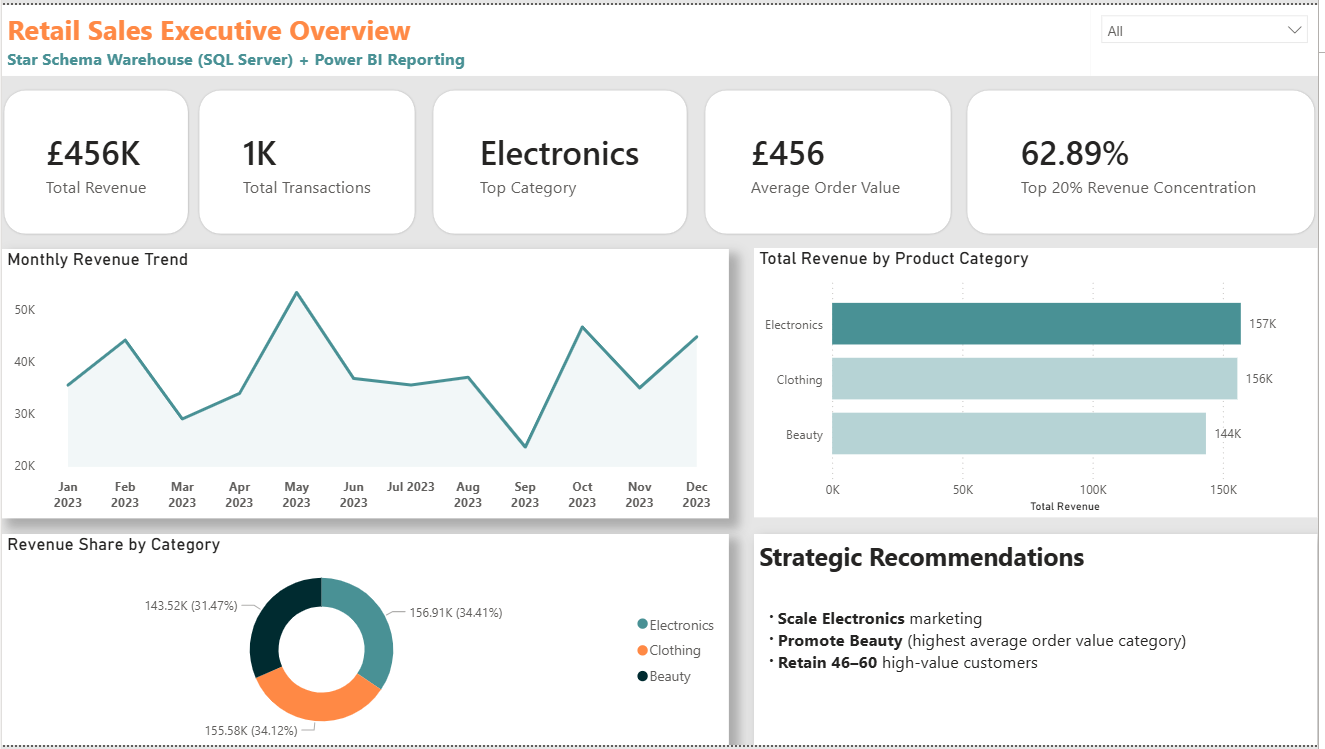

This screenshot's page, from the dashboard's own definition file:
{"tool":"powerbi","page":{"name":"Executive Overview","canvas":[1280,720],"ordinal":0},"visuals":[{"type":"lineChart","title":"Monthly Revenue Trend","fields":{"Y":["Sum(fact_sales.total_amount)"],"Category":["DateTable.MonthYear"]},"box":[0,237,707,262],"z":0},{"type":"clusteredBarChart","title":"Total Revenue by Product Category","fields":{"Y":["Sum(fact_sales.total_amount)"],"Category":["dim_products.product_category"]},"box":[731.4,236.5,548.3,262.3],"z":1000},{"type":"slicer","fields":{"Values":["dim_products.product_category"]},"box":[1059,0,220.7,69.3],"z":2000},{"type":"textbox","box":[731.4,514.6,548.3,205.9],"z":3000},{"type":"textbox","box":[0,0,1059,69],"z":4000},{"type":"donutChart","title":"Revenue Share by Category","fields":{"Y":["Sum(fact_sales.total_amount)"],"Category":["dim_products.product_category"]},"box":[0,514.6,706.6,205.9],"z":5000},{"type":"group","id":"g1","title":"Group 1","box":[0,81,183,144],"z":6000},{"type":"group","id":"g2","title":"Group 1","box":[190,81,214,144],"z":7000},{"type":"shape","box":[0,81,183,144],"z":7500,"group":"g1"},{"type":"shape","box":[190,81,214,144],"z":7500,"group":"g2"},{"type":"shape","box":[417,81,251,144],"z":7500,"group":"g3"},{"type":"shape","box":[682,81,243.2,144],"z":7500,"group":"g5"},{"type":"shape","box":[937,81,342,144],"z":7500,"group":"g4"},{"type":"group","id":"g3","title":"Group 1","box":[417,81,251,144],"z":8000},{"type":"cardVisual","fields":{"Data":["_Measures.Total Revenue"]},"box":[13.4,92.4,157.1,121.1],"z":8000,"group":"g1"},{"type":"cardVisual","fields":{"Data":["_Measures.Total Transactions"]},"box":[205.7,92.4,183.7,121.1],"z":8000,"group":"g2"},{"type":"cardVisual","fields":{"Data":["_Measures.Top Category"]},"box":[435.4,92.4,215.5,121.1],"z":8000,"group":"g3"},{"type":"cardVisual","fields":{"Data":["_Measures.Average Order Value"]},"box":[699.8,92.4,208.8,121.1],"z":8000,"group":"g5"},{"type":"cardVisual","fields":{"Data":["_Measures.Top 20% Revenue Concentration %"]},"box":[962,92.4,293.6,121.1],"z":8000,"group":"g4"},{"type":"group","id":"g4","title":"Group 1","box":[937,81,343,144],"z":9000},{"type":"group","id":"g5","title":"Group 1","box":[682,81,243,144],"z":10000}]}

Visuals, with their boxes in screenshot pixels (x1, y1, x2, y2), scaled from the page's 1280x720 canvas onto the 1325x749 screenshot:
"Monthly Revenue Trend" lineChart: pyautogui.locateOnScreen(0, 247, 732, 519)
"Total Revenue by Product Category" clusteredBarChart: pyautogui.locateOnScreen(757, 246, 1324, 519)
slicer - dim_products.product_category: pyautogui.locateOnScreen(1096, 0, 1324, 72)
textbox: pyautogui.locateOnScreen(757, 535, 1324, 748)
textbox: pyautogui.locateOnScreen(0, 0, 1096, 72)
"Revenue Share by Category" donutChart: pyautogui.locateOnScreen(0, 535, 731, 748)
"Group 1" group: pyautogui.locateOnScreen(0, 84, 189, 234)
"Group 1" group: pyautogui.locateOnScreen(197, 84, 418, 234)
shape: pyautogui.locateOnScreen(0, 84, 189, 234)
shape: pyautogui.locateOnScreen(197, 84, 418, 234)
shape: pyautogui.locateOnScreen(432, 84, 691, 234)
shape: pyautogui.locateOnScreen(706, 84, 958, 234)
shape: pyautogui.locateOnScreen(970, 84, 1324, 234)
"Group 1" group: pyautogui.locateOnScreen(432, 84, 691, 234)
cardVisual - _Measures.Total Revenue: pyautogui.locateOnScreen(14, 96, 176, 222)
cardVisual - _Measures.Total Transactions: pyautogui.locateOnScreen(213, 96, 403, 222)
cardVisual - _Measures.Top Category: pyautogui.locateOnScreen(451, 96, 674, 222)
cardVisual - _Measures.Average Order Value: pyautogui.locateOnScreen(724, 96, 941, 222)
cardVisual - _Measures.Top 20% Revenue Concentration %: pyautogui.locateOnScreen(996, 96, 1300, 222)
"Group 1" group: pyautogui.locateOnScreen(970, 84, 1324, 234)
"Group 1" group: pyautogui.locateOnScreen(706, 84, 958, 234)
